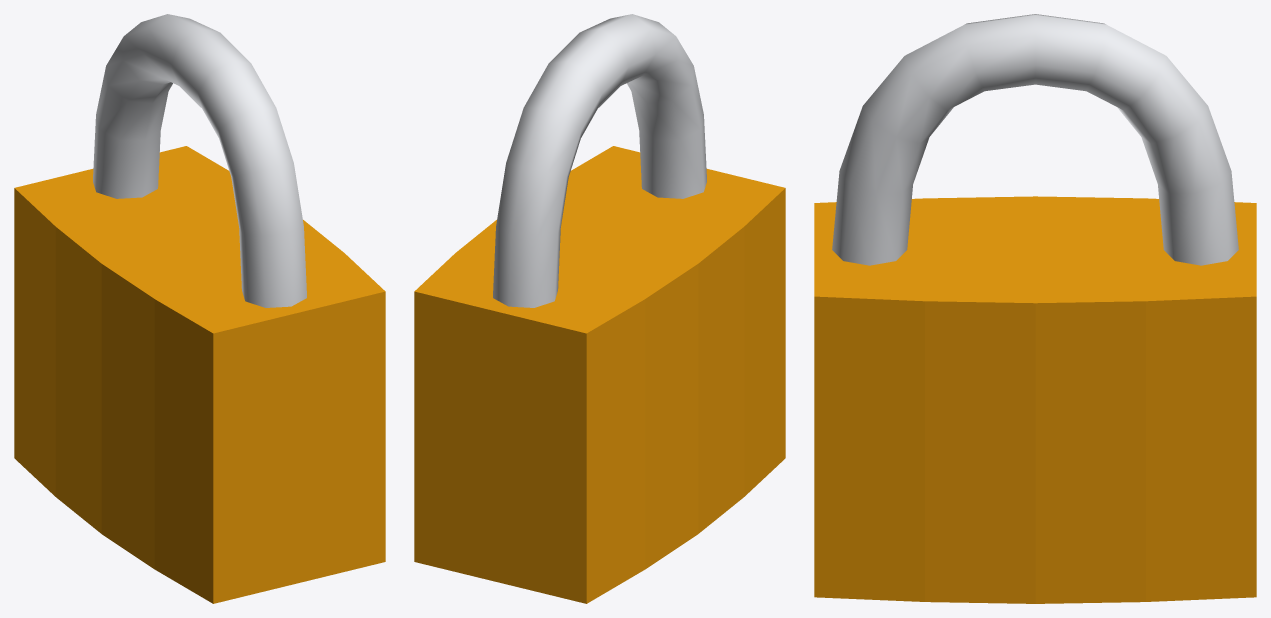
File: 4_Lock.fbx
3 renders of one model, left to right at view 1: azimuth 30°, elevation 25°; view 2: azimuth 150°, elevation 25°; view 3: azimuth 270°, elevation 25°, orthographic. The views are drawn at different scales.
Parts seen in each view (by area): view 1: 0_Lock; view 2: 0_Lock; view 3: 0_Lock.
Part boxes in pixels (x1,y1,x2,y2): 0_Lock: (14,14,385,603); 0_Lock: (414,14,785,603); 0_Lock: (814,14,1256,603).
Size of the model in its own units: 100 by 57.08 by 133.
Materials: 1 (1 with a texture image).
